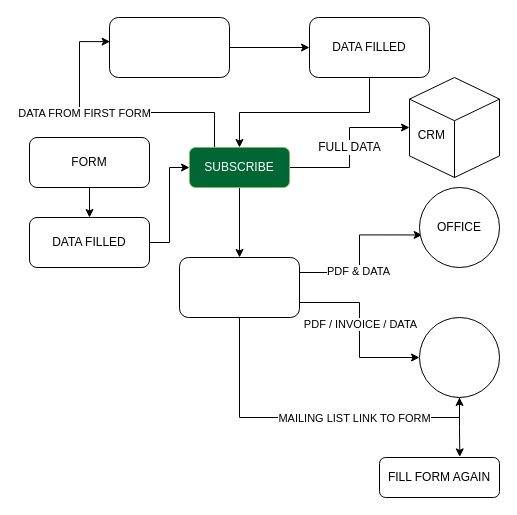
The diagram is 517 pixels wide and 515 high, and some of its shapes have lost their labels. Here are the shapes that lost their labels. From the top down, the centre of each, then its label:
the point at 169,47: NEXT FORM
the point at 239,287: MAIL
the point at 459,357: USER
